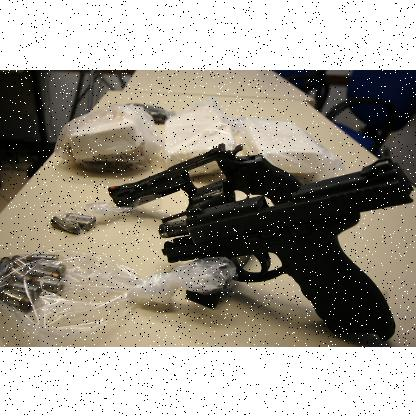gun: (106, 142, 414, 342), (123, 138, 415, 328), (107, 141, 304, 207)
